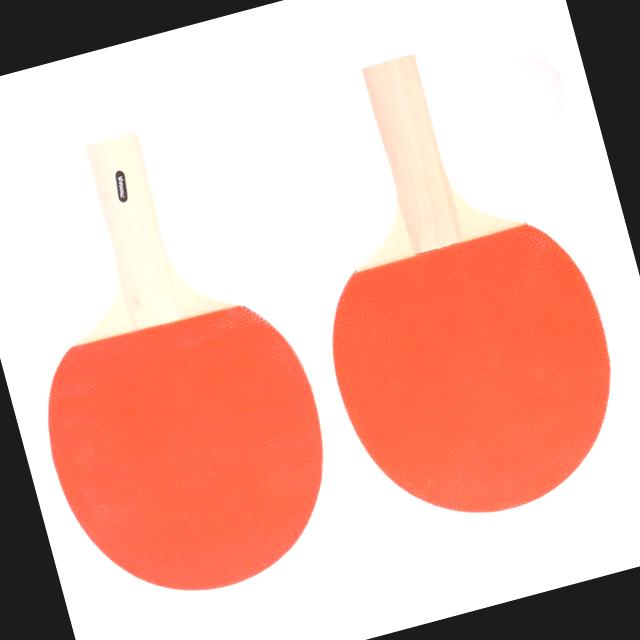TT Racket: (273, 137, 640, 556), (0, 222, 360, 629)
